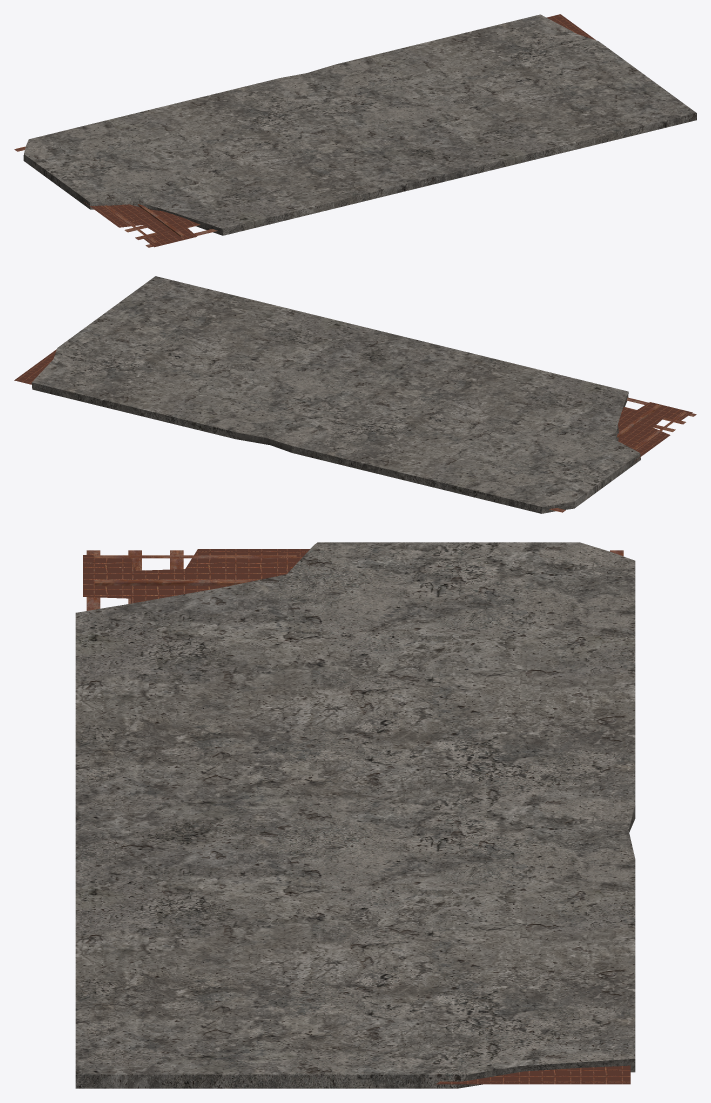
File: Build6A_el5_LOD1.fbx
3 views of the same model, one above another, from view 1: azimuth 30°, elevation 25°; view 2: azimuth 150°, elevation 25°; view 3: azimuth 270°, elevation 25° (orthographic). The views are drawn at different scales.
Visible parts, largest first — view 1: polySurface433; view 2: polySurface433; view 3: polySurface433.
Boxes of the visible parts, x1,y1,x2,y2 form: polySurface433: (14,14,696,247); polySurface433: (14,276,696,513); polySurface433: (75,542,635,1088).
Bounding box in the file's own units: 45.26 × 0.5522 × 20.
